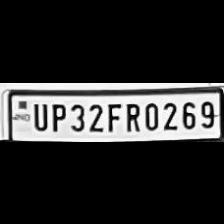0: (141, 98, 159, 130)
2: (86, 99, 104, 133), (159, 98, 177, 130)
3: (67, 98, 85, 132)
6: (178, 97, 196, 128)
9: (198, 96, 216, 128)
F: (103, 98, 121, 132)
P: (47, 100, 66, 132)
R: (122, 98, 142, 132)
U: (28, 99, 48, 130)
